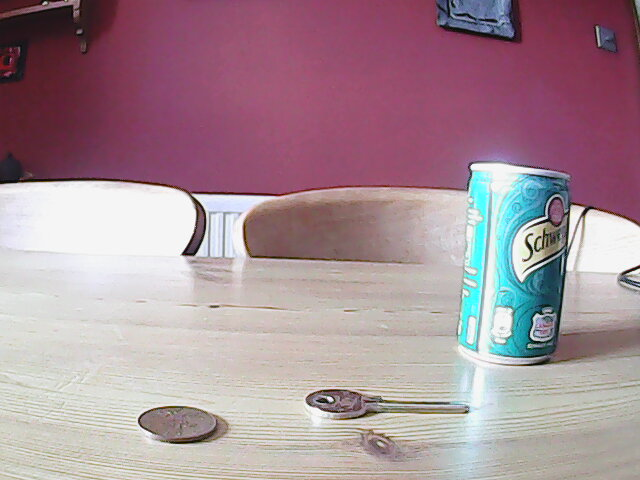Can: (453, 158, 572, 370)
Coin: (134, 404, 221, 445)
Key: (300, 385, 473, 421)
